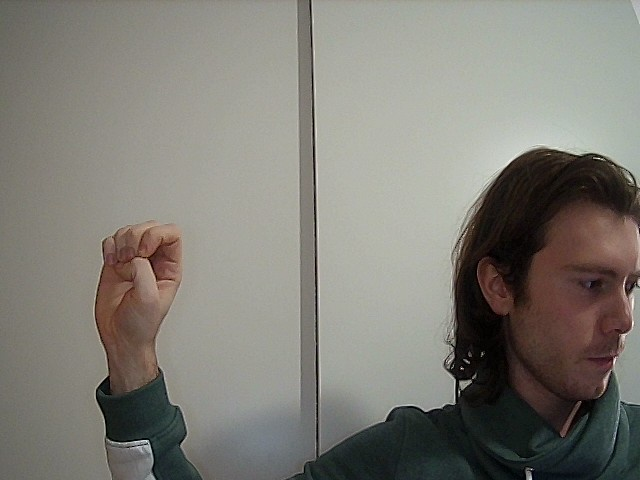e: (84, 215, 197, 356)
